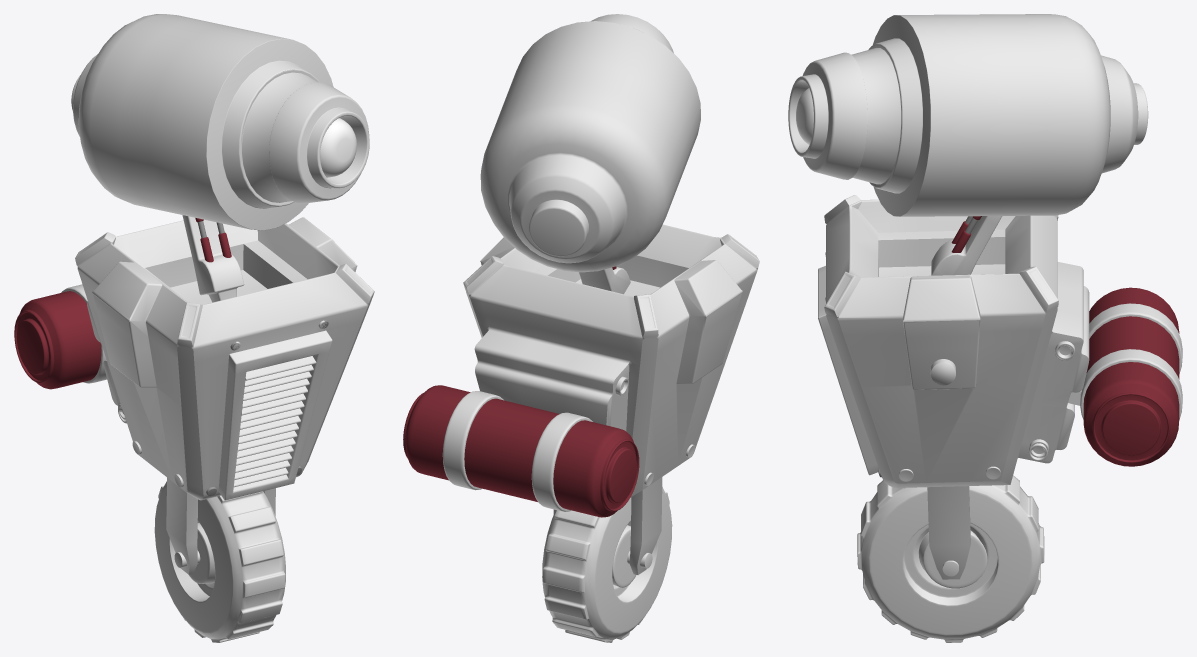
The model's file is Wheel Robot v4.fbx.
3 renders of one model, left to right at view 1: azimuth 30°, elevation 25°; view 2: azimuth 150°, elevation 25°; view 3: azimuth 270°, elevation 25°, orthographic. The views are drawn at different scales.
Parts seen in each view (by area): view 1: Body, Head, Tire, Gas tAnk, Ventilations, Neck; view 2: Body, Head, Gas tAnk, Tire, Neck; view 3: Body, Head, Tire, Gas tAnk, Neck, Hand_Axel.
Part boxes in pixels (x1,y1,x2,y2): Body: (75,217,374,574); Head: (71,14,369,230); Tire: (154,481,285,642); Gas tAnk: (14,284,107,389); Ventilations: (234,356,316,487); Neck: (182,215,244,302); Body: (463,224,759,574); Head: (480,14,700,272); Gas tAnk: (403,385,639,517); Tire: (542,487,672,642); Neck: (579,266,630,294); Body: (818,195,1089,579); Head: (788,14,1148,216); Tire: (857,475,1044,642); Gas tAnk: (1068,287,1182,466); Neck: (931,216,1002,275); Hand_Axel: (930,359,955,385).
Bounding box in the file's own units: 54.89 × 137 × 79.
